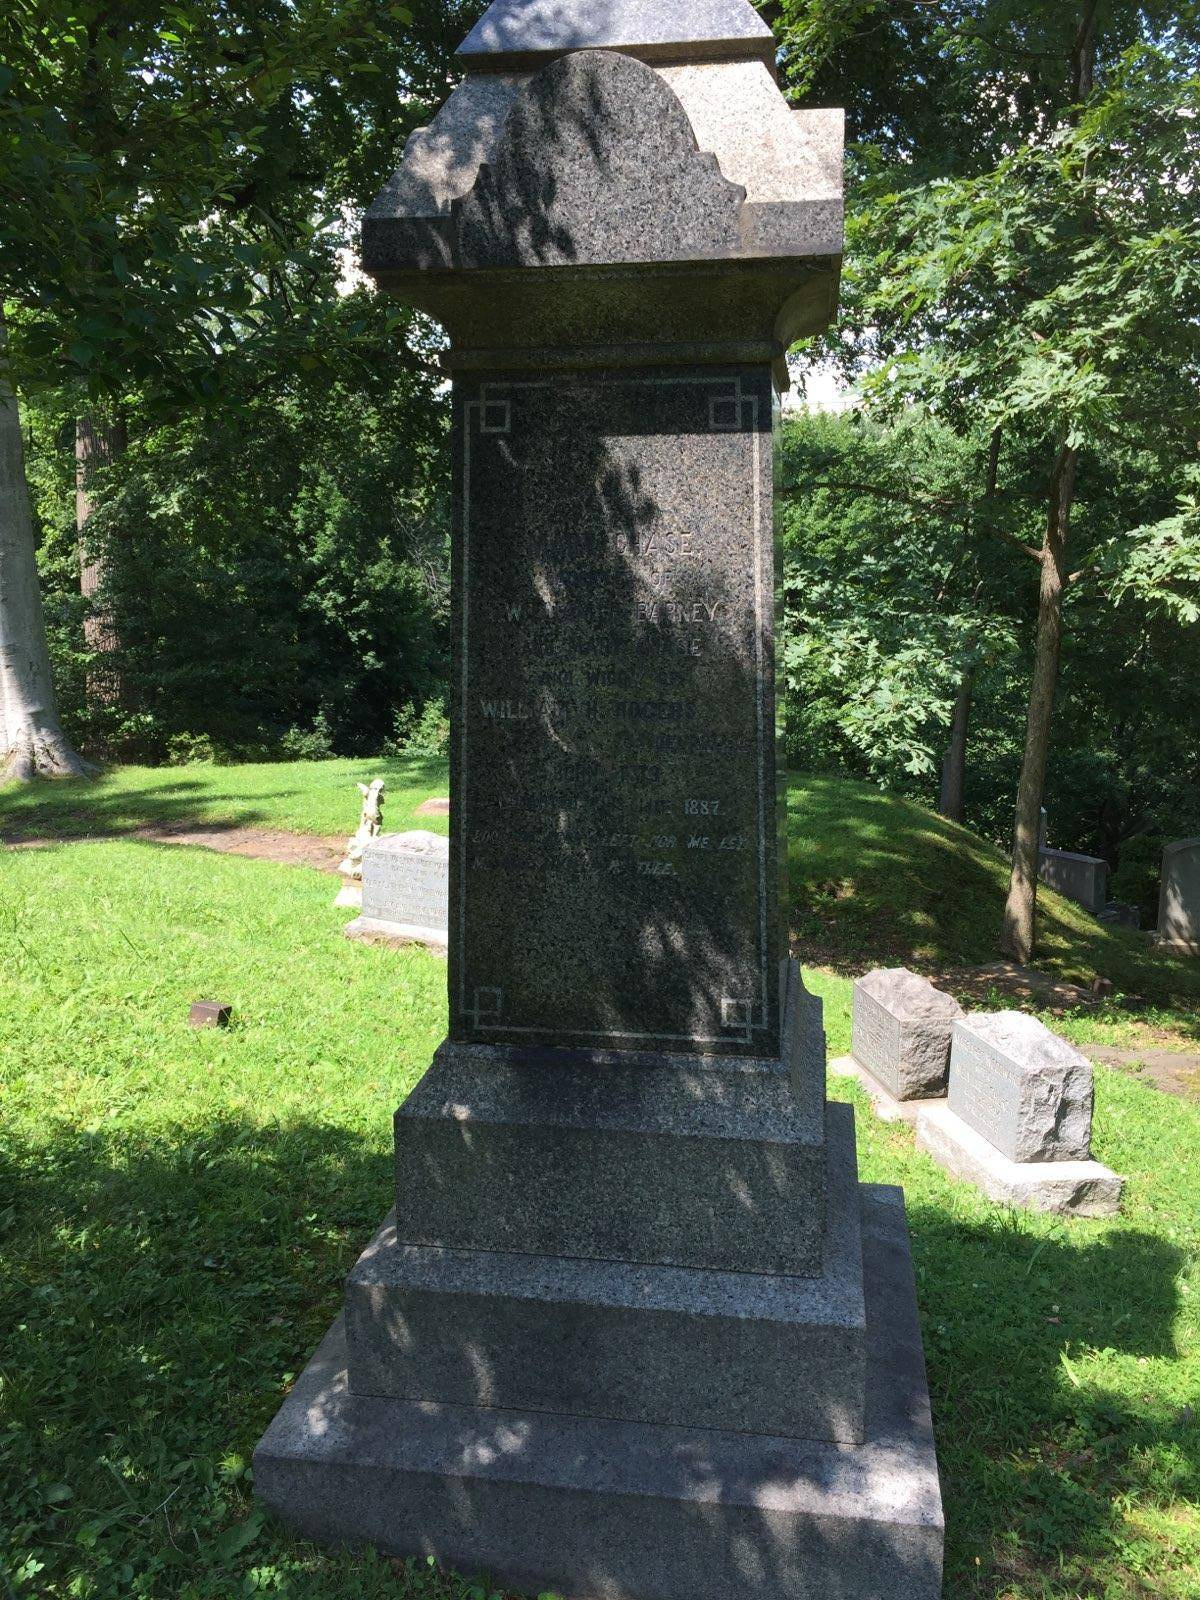obelisk: (216, 13, 972, 1586)
